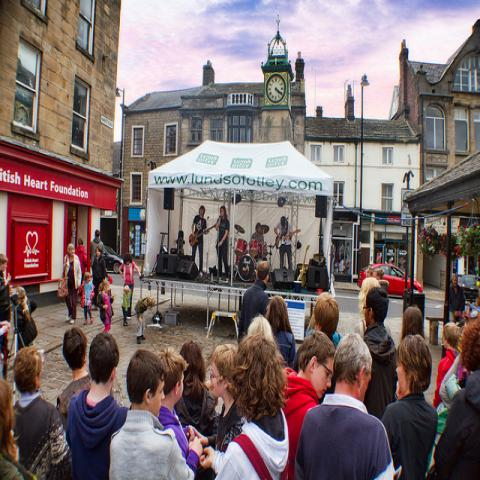car: (359, 263, 423, 296), (102, 246, 124, 274), (457, 274, 479, 300)
